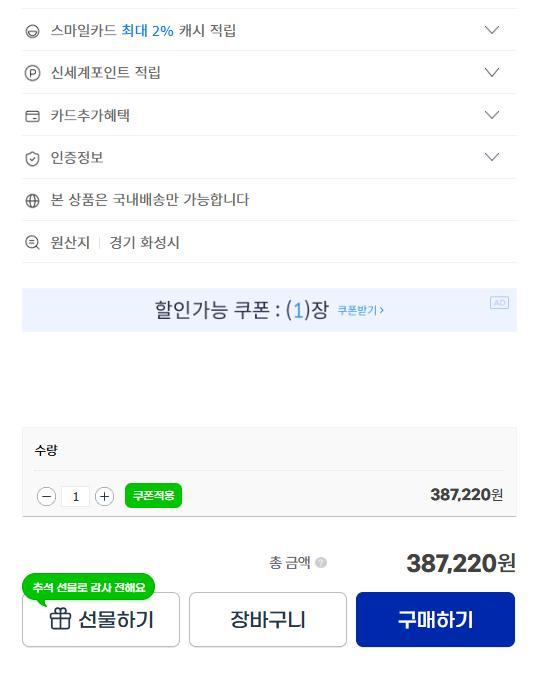button: (357, 590, 514, 652), (190, 592, 346, 647), (22, 598, 179, 649), (30, 481, 122, 512)
checkbox: (18, 7, 520, 50), (18, 137, 519, 175), (20, 55, 521, 90), (20, 97, 522, 130)
popup: (20, 285, 519, 335), (19, 571, 158, 608)
